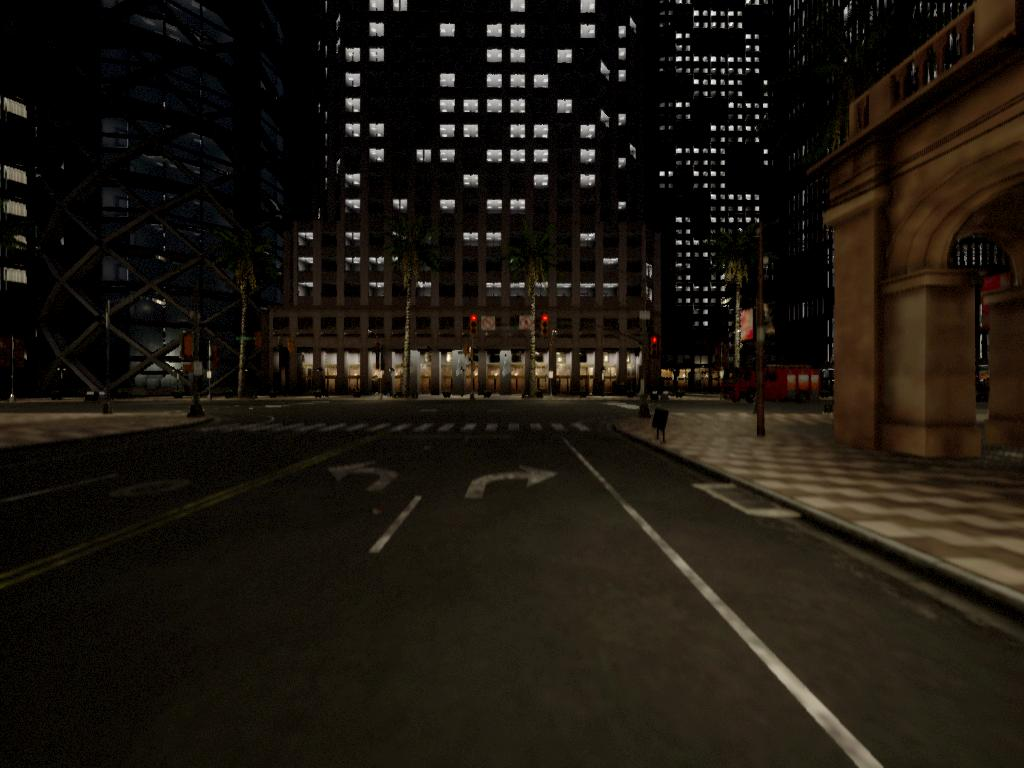traffic_light: (648, 334, 662, 361), (541, 316, 552, 336), (471, 317, 483, 334)
